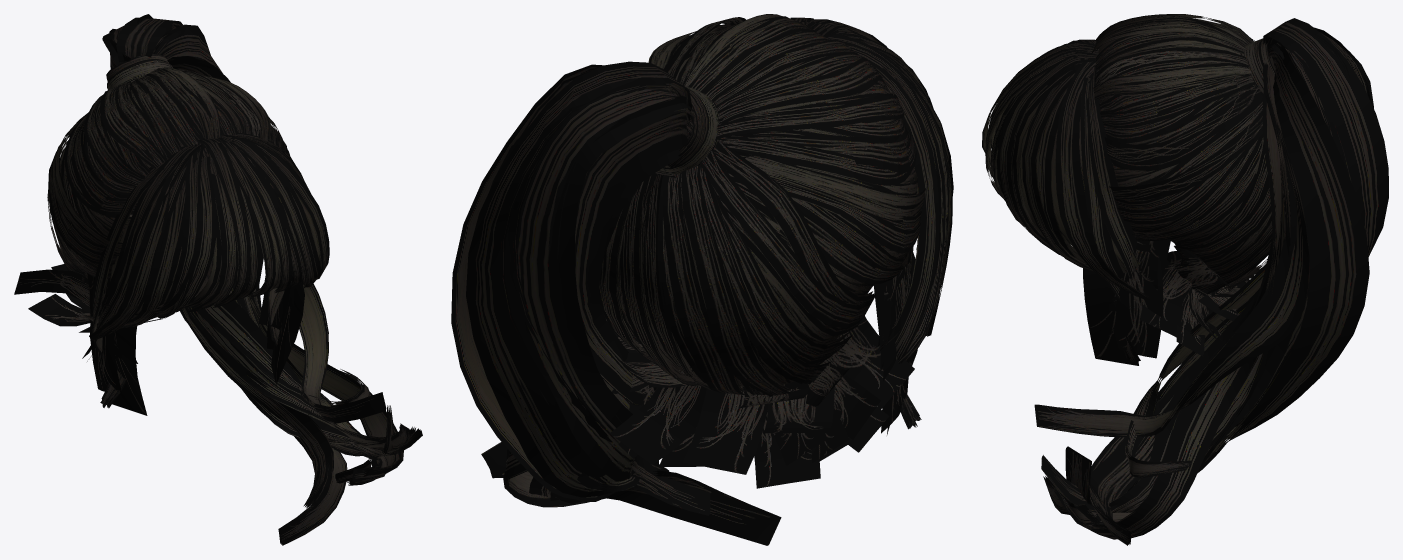
File: hairongfang2.fbx
3 views of the same model, side by side, from view 1: azimuth 30°, elevation 25°; view 2: azimuth 150°, elevation 25°; view 3: azimuth 270°, elevation 25° (orthographic). The views are drawn at different scales.
Parts seen in each view (by area): view 1: female_base_mesh:HAIRgeo_female_base_mesh:lambert2SG1_0; view 2: female_base_mesh:HAIRgeo_female_base_mesh:lambert2SG1_0; view 3: female_base_mesh:HAIRgeo_female_base_mesh:lambert2SG1_0.
Part boxes in pixels (bbox=[...]): female_base_mesh:HAIRgeo_female_base_mesh:lambert2SG1_0: bbox=[14, 14, 422, 545]; female_base_mesh:HAIRgeo_female_base_mesh:lambert2SG1_0: bbox=[451, 14, 953, 545]; female_base_mesh:HAIRgeo_female_base_mesh:lambert2SG1_0: bbox=[982, 14, 1388, 545].
Size of the model in its own units: 30.12 by 35.27 by 28.4.
